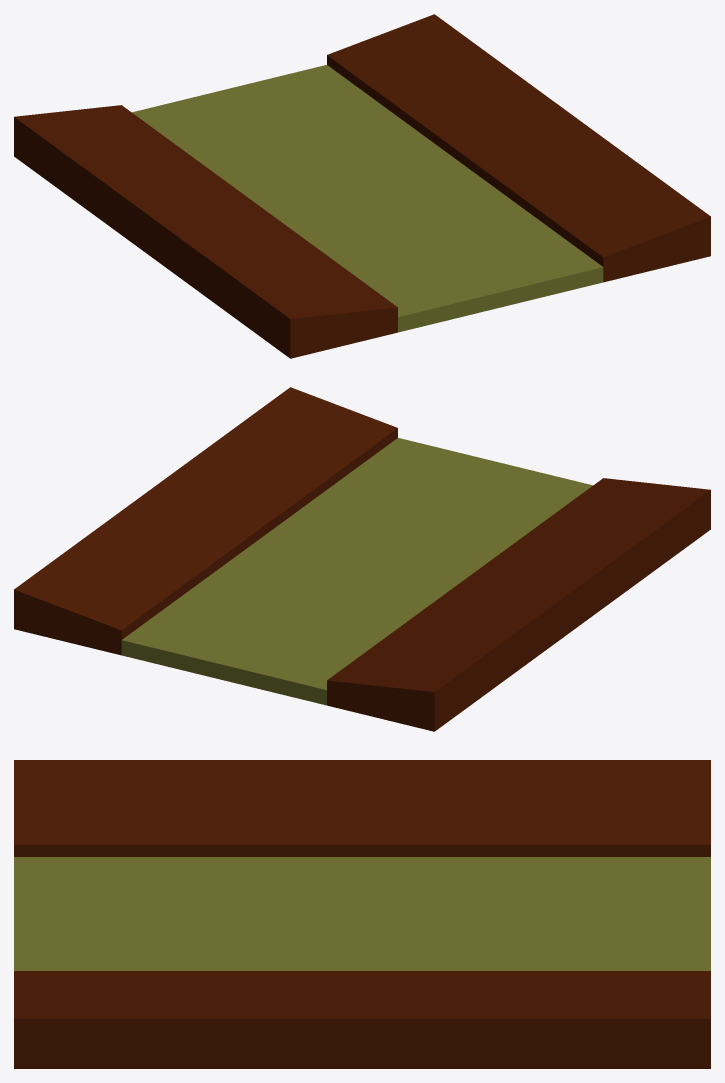
The model's file is Straight_Track.fbx.
3 views of the same model, one above another, from view 1: azimuth 30°, elevation 25°; view 2: azimuth 150°, elevation 25°; view 3: azimuth 270°, elevation 25° (orthographic). The views are drawn at different scales.
Parts seen in each view (by area): view 1: Straight_Track; view 2: Straight_Track; view 3: Straight_Track.
Part boxes in pixels (left/top/right/bottom): Straight_Track: left=14, top=14, right=710, bottom=358; Straight_Track: left=14, top=387, right=710, bottom=731; Straight_Track: left=14, top=760, right=710, bottom=1068.
Bounding box in the file's own units: 2867 × 259 × 3265.
